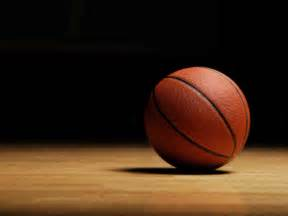basketball: (144, 65, 253, 173)
